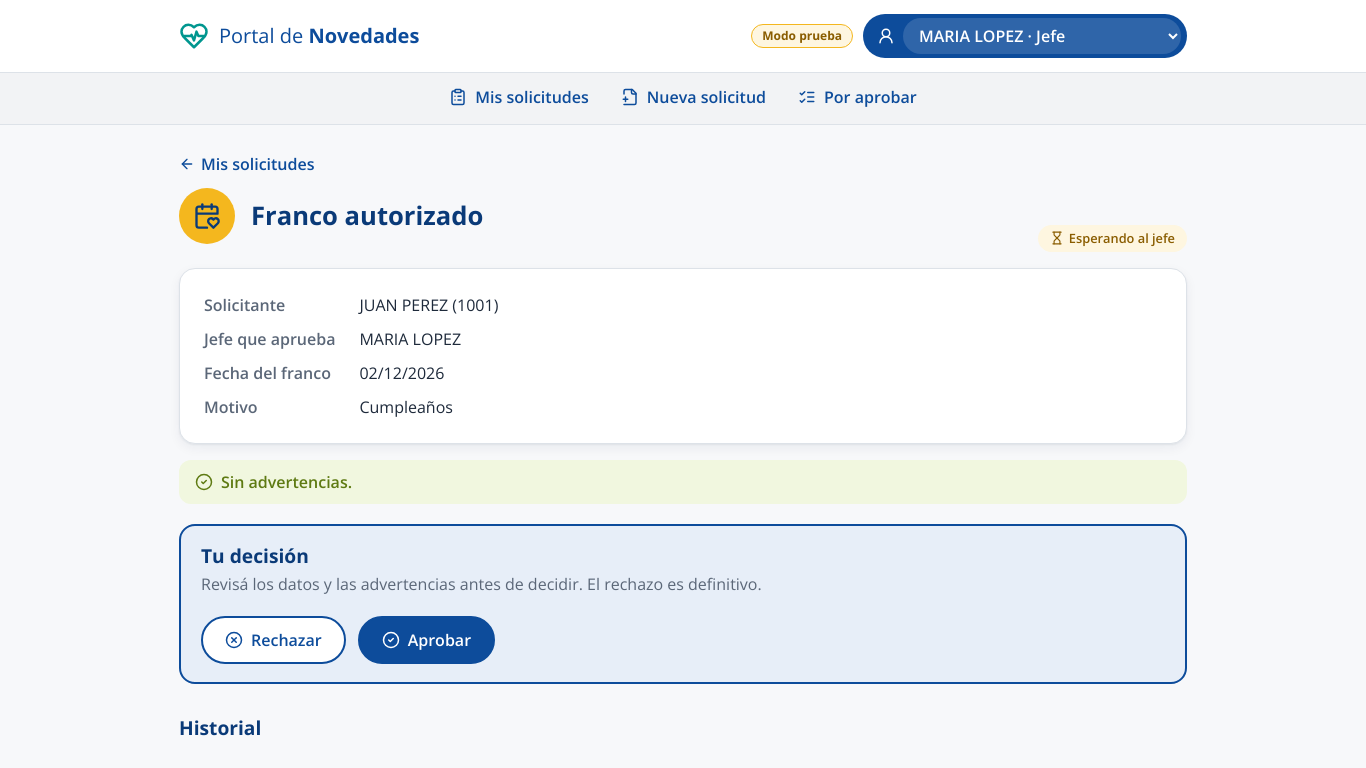
Scenario: Circuito de aprobación › el jefe aprueba desde el detalle y vuelve a la bandeja
Step 1. Click the button "Aprobar" → (426, 640), box [358,616,495,664]
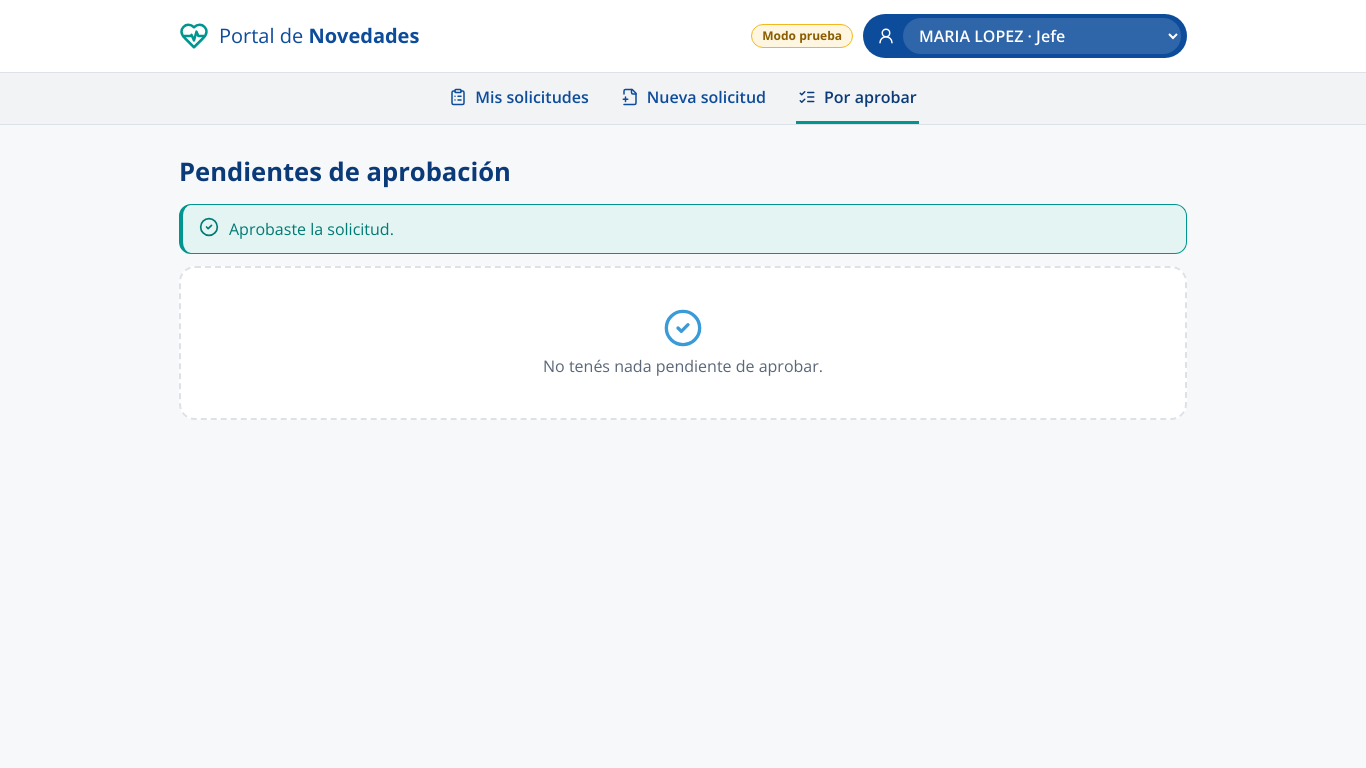
Now the text "Aprobaste la solicitud." is shown, box [229,217,394,241]
